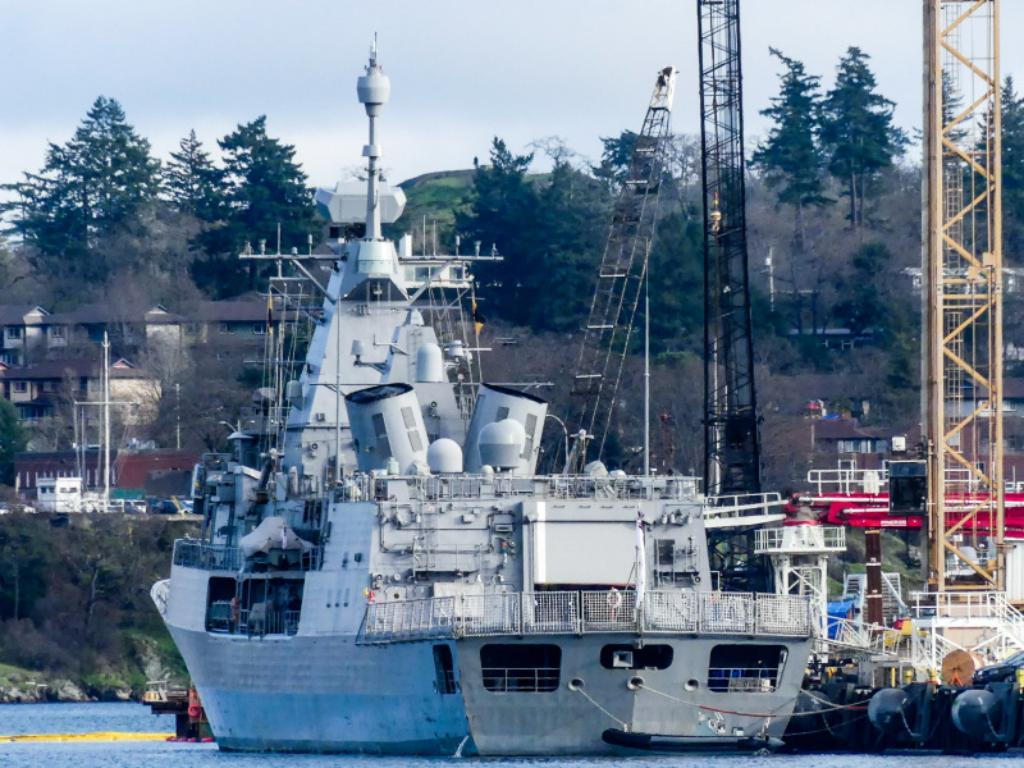Warship: (142, 33, 828, 762)
